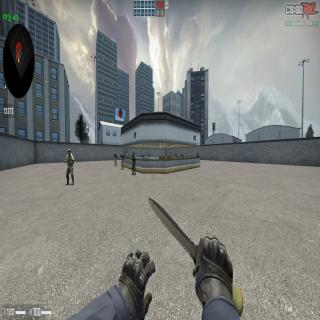CT-Body: (64, 148, 75, 186), (131, 150, 136, 176), (197, 152, 200, 158), (125, 152, 128, 156), (181, 152, 183, 157), (169, 152, 171, 156), (142, 152, 144, 156)
CT-Head: (68, 149, 71, 157), (132, 150, 134, 155), (126, 152, 127, 154), (142, 152, 143, 154), (182, 152, 182, 154), (198, 152, 198, 154), (170, 152, 170, 154)
T-Body: (121, 151, 124, 170), (114, 152, 117, 167), (175, 152, 177, 156), (148, 152, 150, 156)
T-Head: (122, 152, 123, 156), (115, 152, 116, 155), (176, 152, 177, 154), (149, 152, 149, 154)
